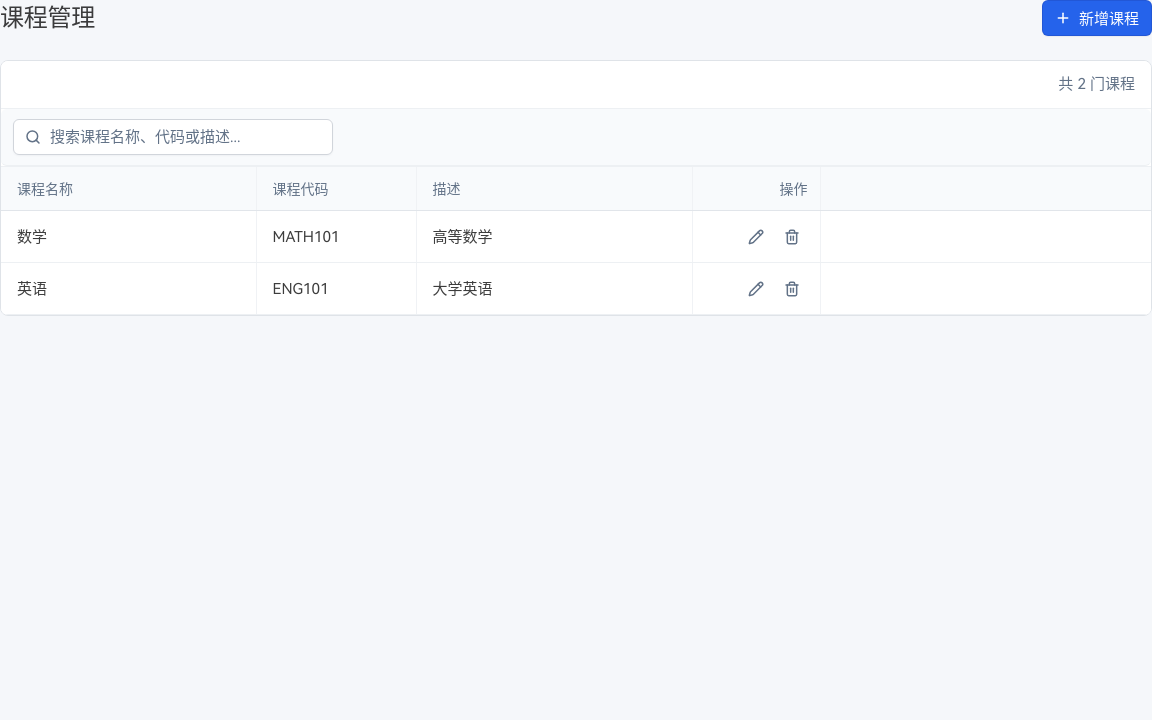
Test: CoursePage › shows validation errors for empty fields
The image size is (1152, 720).
Click the button "新增课程" at (1097, 18), box 1042,0 -> 1151,36
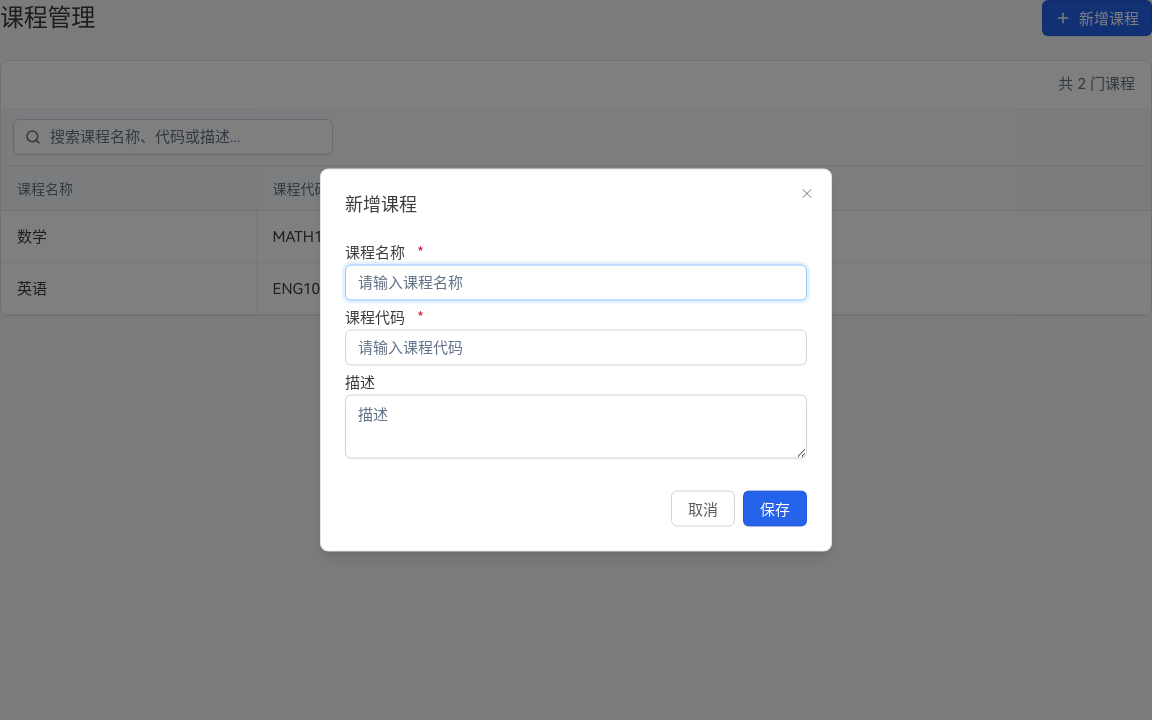
Click the button "保存" at (775, 508), box 743,490 -> 807,526
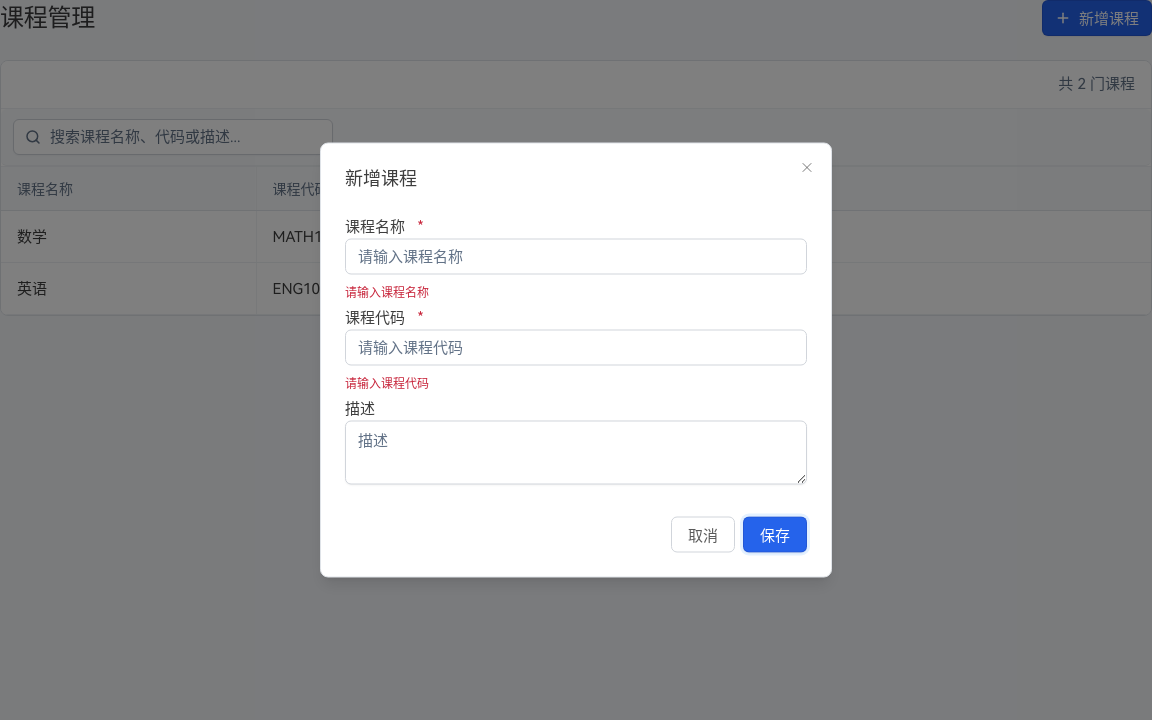
Result: the text "请输入课程名称" is shown at 345,286 -> 429,300
Result: the text "请输入课程代码" is shown at 345,376 -> 429,390
